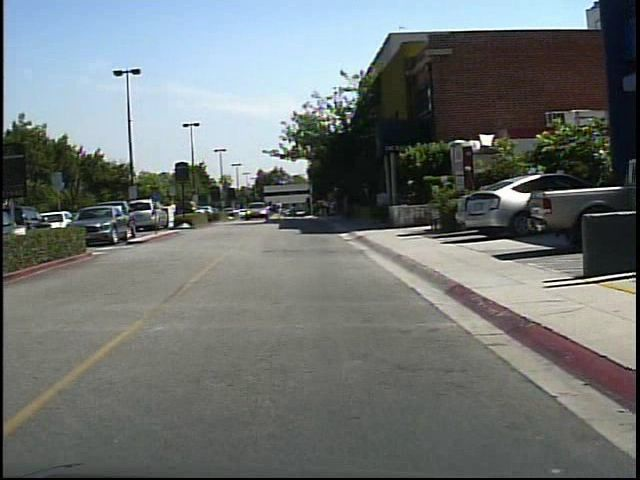person: (167, 195, 182, 227), (273, 196, 286, 223)
